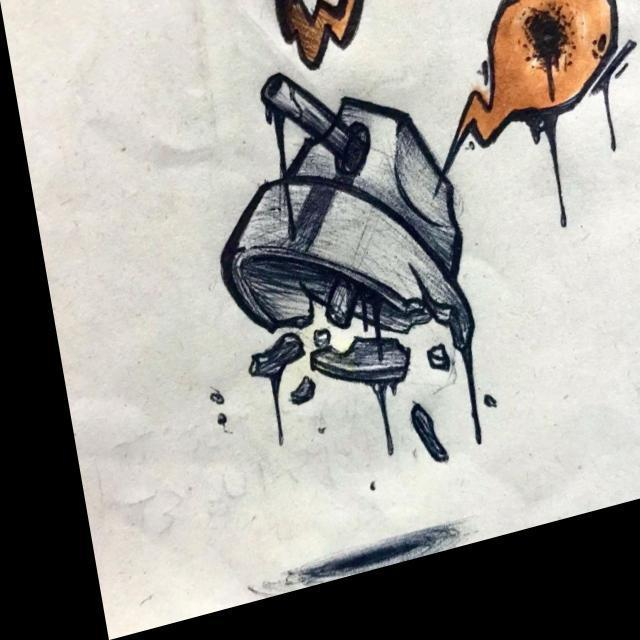-: (128, 0, 640, 544)
